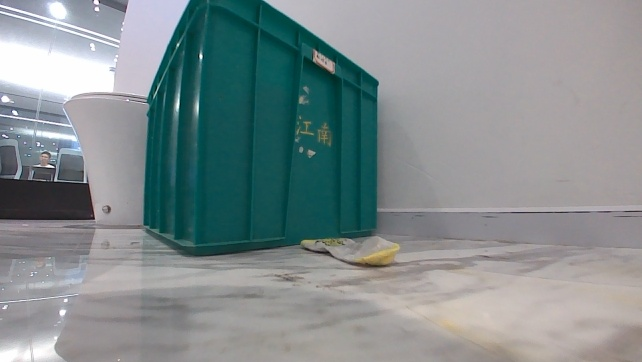socks: (299, 234, 401, 268)
toilet: (60, 90, 151, 227)
